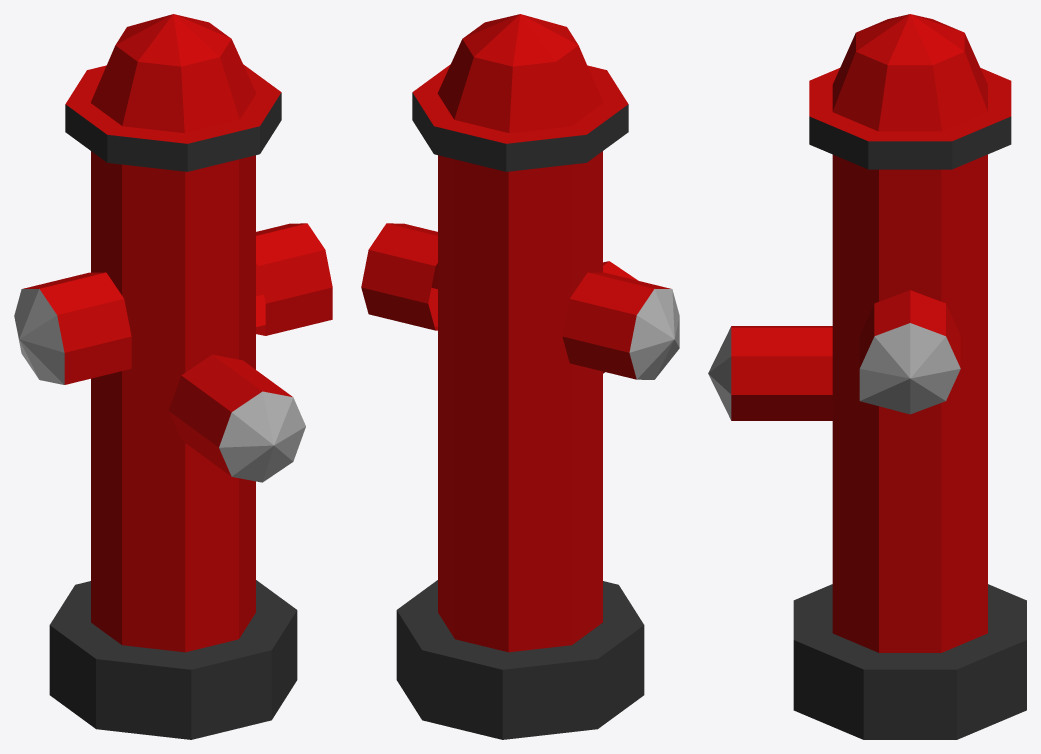
Rendered from fire_hydrant.obj.
The picture shows the model from 3 angles, left to right: view 1: azimuth 30°, elevation 25°; view 2: azimuth 150°, elevation 25°; view 3: azimuth 270°, elevation 25°; orthographic projection.
Size of the model in its own units: 0.46 by 0.96 by 0.41.
